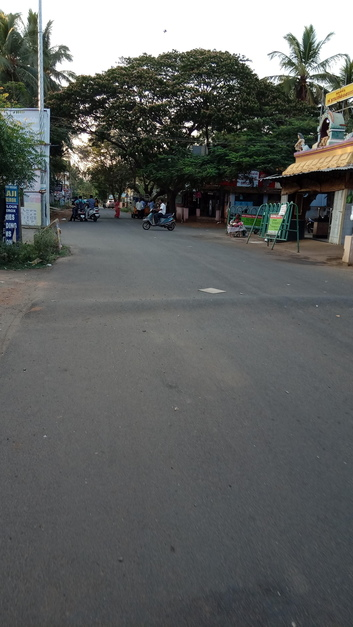bump: (32, 295, 353, 322)
